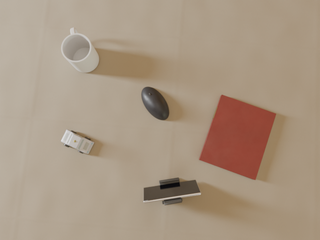book: (199, 95, 276, 180)
cup: (61, 28, 99, 72)
mouse: (142, 87, 169, 120)
phone: (144, 180, 201, 203)
toy_car: (61, 130, 94, 154)
